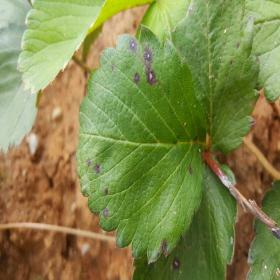Leaf Spot: (76, 23, 207, 264), (170, 0, 262, 154), (131, 154, 239, 279)
